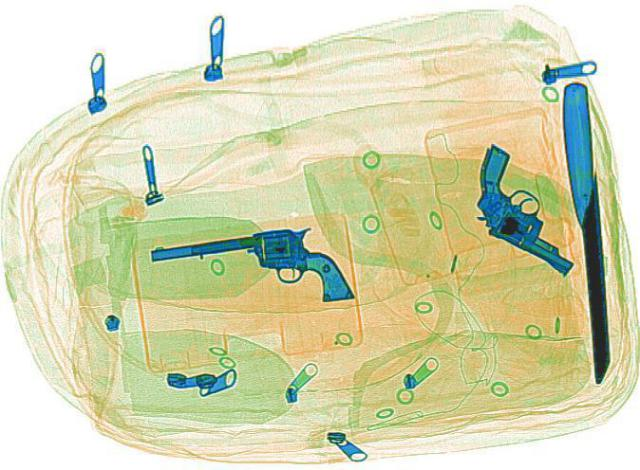Gun: (422, 141, 632, 273), (147, 221, 353, 321)
Knife: (554, 80, 620, 380)
